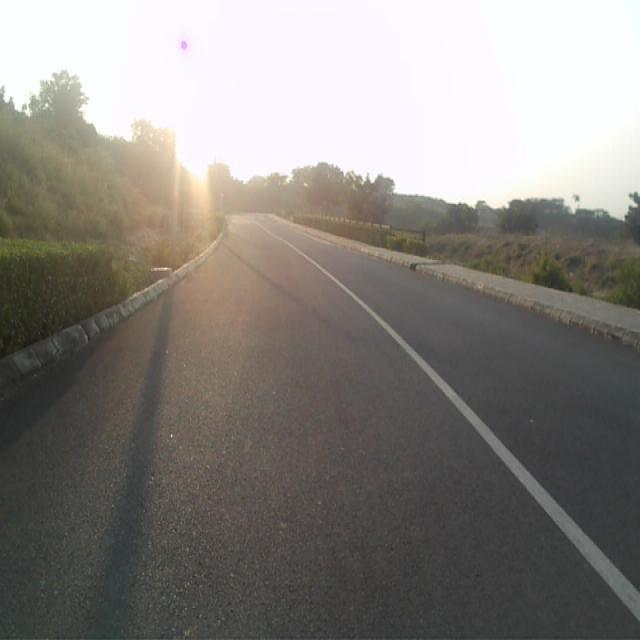lane: (0, 220, 640, 640)
